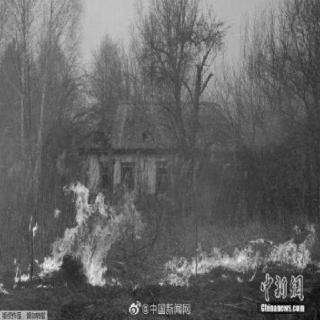Fire: (29, 178, 142, 288), (162, 223, 318, 286)
